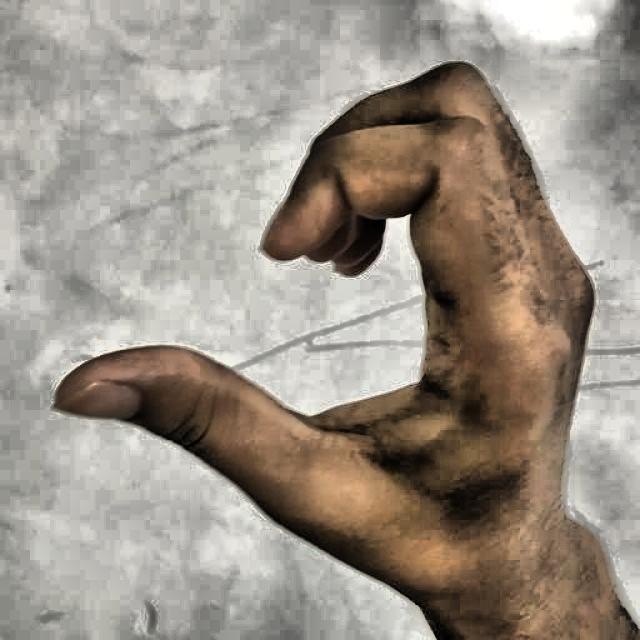Kha: (28, 18, 612, 619)
